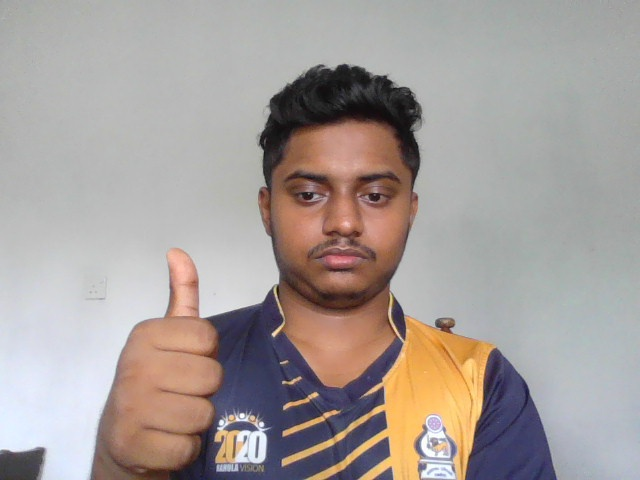Agree: (103, 246, 225, 480)
